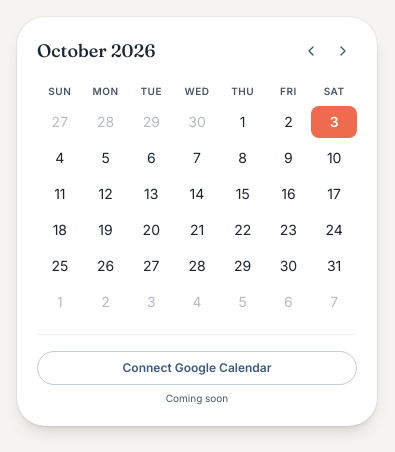
CalendarPanel › navigates to the previous month
Click the button named "Previous month" at (311, 51), box [297, 37, 325, 65]
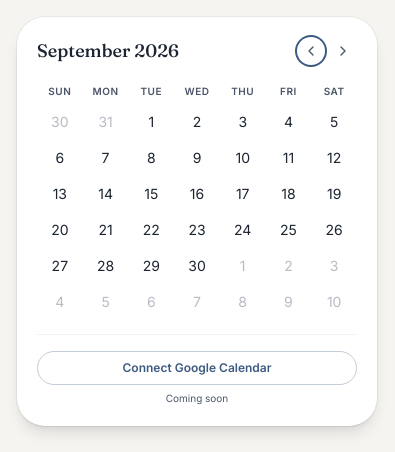
expect the text "September 2026" is shown: met, box [37, 37, 179, 65]
